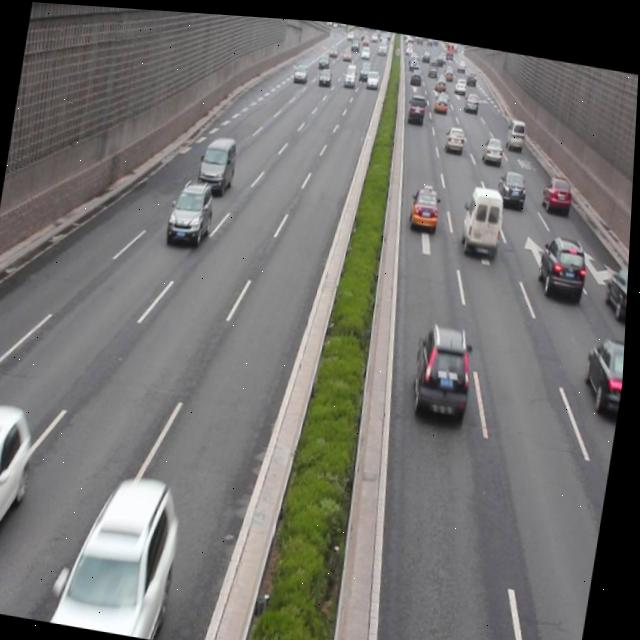car: (56, 469, 190, 639), (411, 311, 479, 418), (0, 400, 41, 576), (582, 323, 628, 405), (537, 224, 592, 292), (166, 175, 217, 243), (409, 176, 441, 229), (603, 254, 631, 309), (495, 160, 529, 204), (540, 166, 573, 207)
truck: (460, 177, 505, 252), (199, 128, 239, 192)
